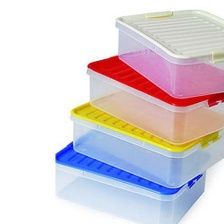plastic_box: (65, 85, 224, 192), (55, 121, 211, 224), (83, 40, 224, 149), (109, 4, 224, 103)
